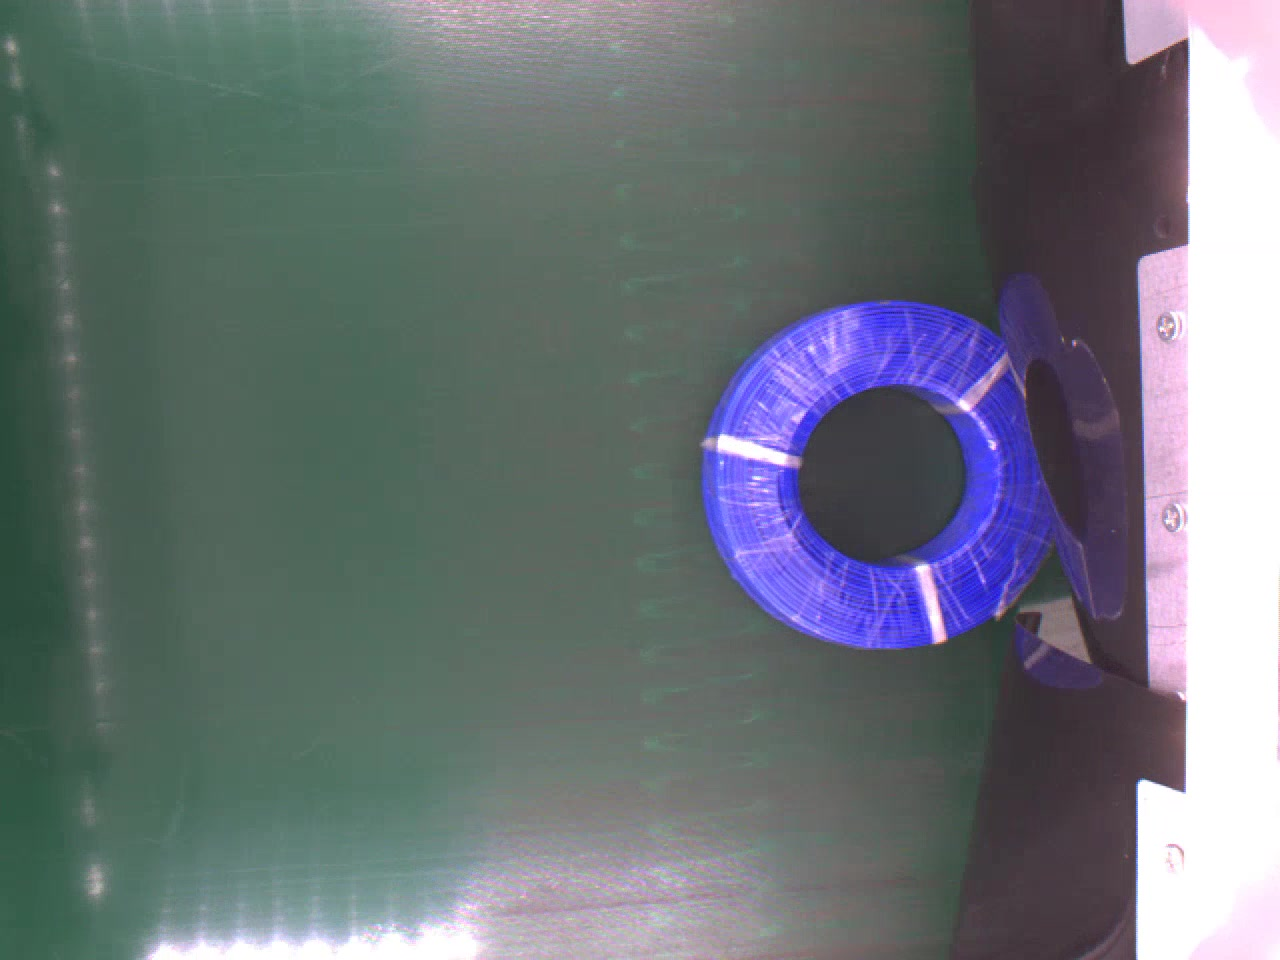blue: (702, 297, 1051, 648)
